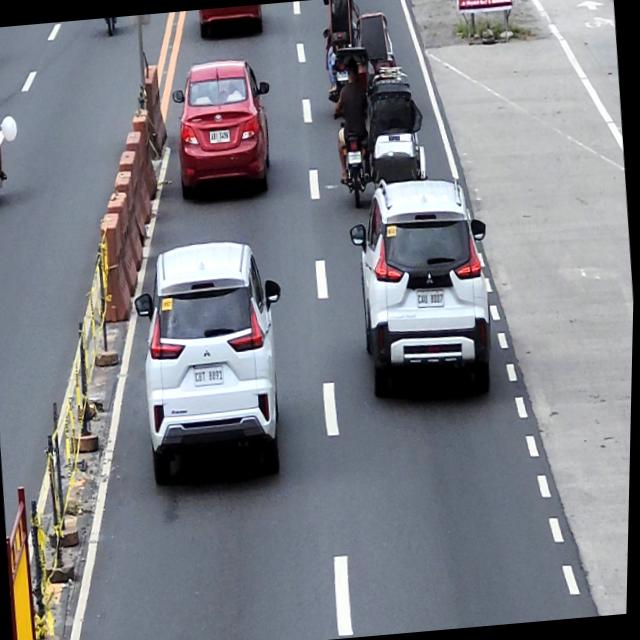Car: (127, 234, 299, 486), (342, 170, 504, 405), (168, 56, 280, 200)
License-Plate: (194, 364, 226, 386), (417, 288, 447, 309), (208, 129, 232, 144), (348, 150, 362, 162), (337, 71, 349, 82)
Motorcycle: (0, 113, 6, 214)
Tricycle: (323, 41, 433, 210), (318, 0, 396, 87)
